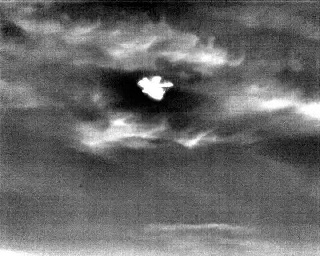HELICOPTER: (136, 69, 177, 105)
